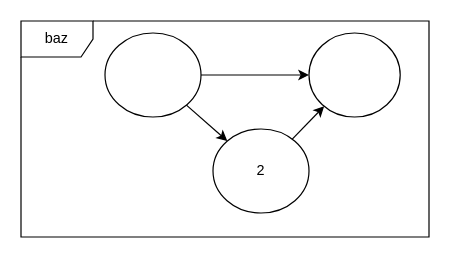
Some shapes in this 450 by 258 pixel diagram are drawn without their labels. Each missing label, with the centre of its shape:
"1 store a" belongs at point 152,74.
"3 load a" belongs at point 354,74.
